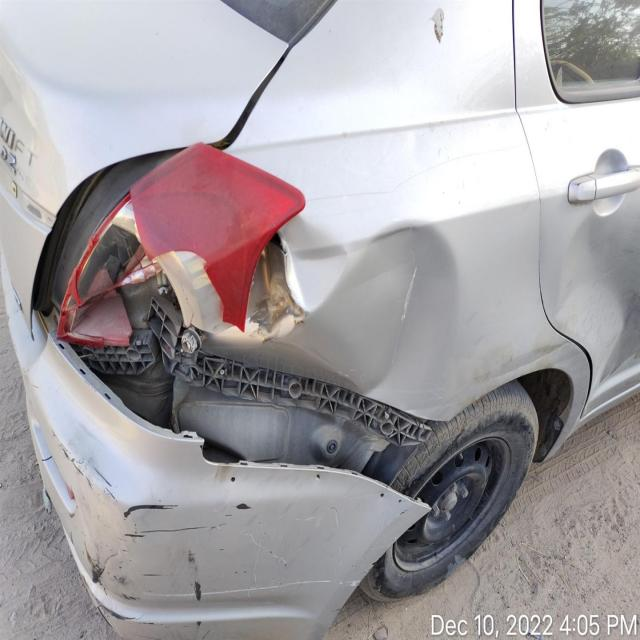damage: (64, 191, 250, 351), (300, 222, 459, 392), (75, 480, 222, 606), (560, 212, 633, 365), (243, 226, 304, 331)
